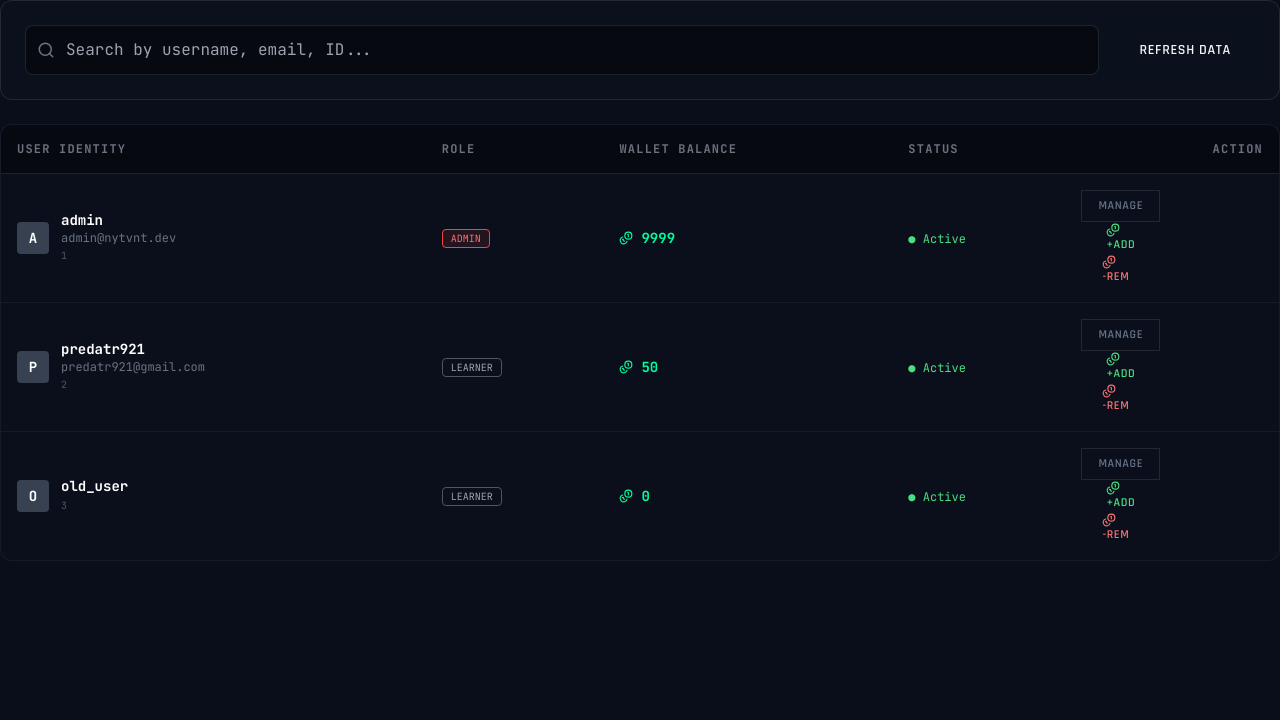
it: Project 10 Feature Verification › Admin Console: User Search › correctly filters users and handles missing data safely
The image size is (1280, 720).
Check: the text "admin@nytvnt.dev" is shown, box [61,230,176,246]
Check: the text "predatr921@gmail.com" is shown, box [61,359,205,375]
Note: Search for specific user
Type "predatr" into the field with placeholder "Search by username, email, ID..." at (562, 50), box [25,25,1099,75]
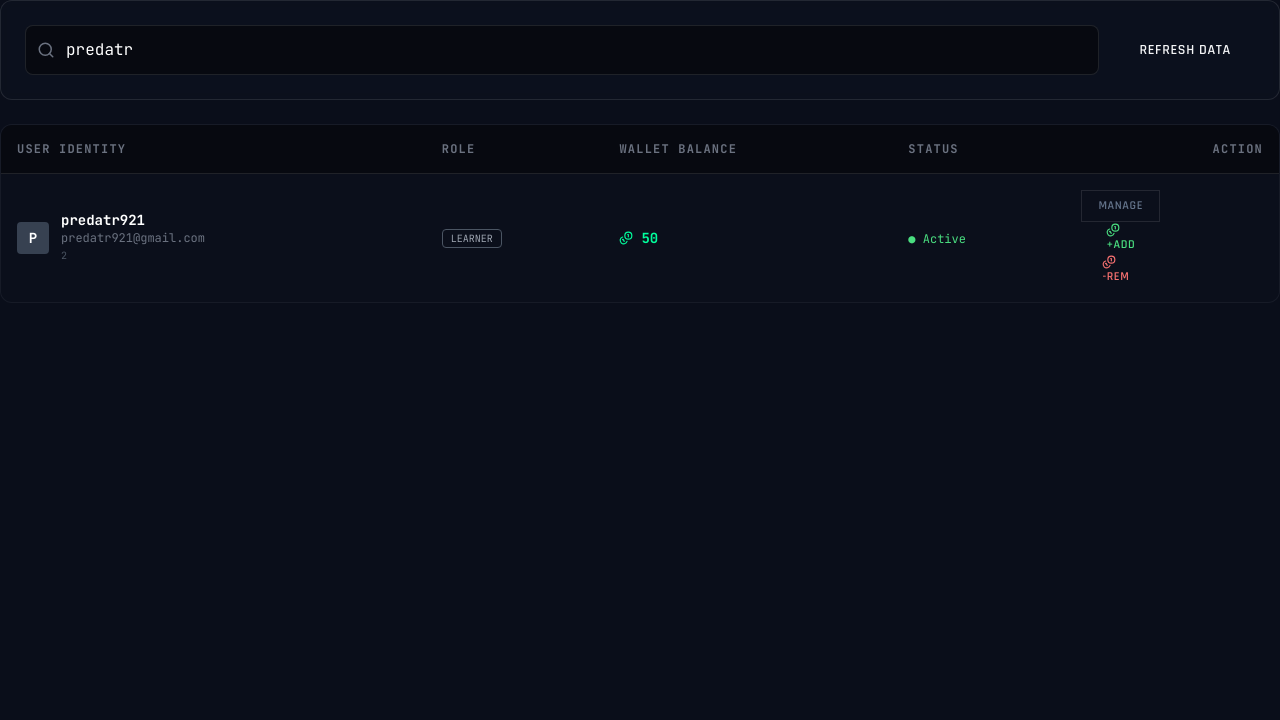
Check: the text "predatr921@gmail.com" is shown, box [61,230,205,246]
Check: the text "admin@nytvnt.dev" is gone
Note: Clear search
Clear the field with placeholder "Search by username, email, ID..." at (562, 50), box [25,25,1099,75]
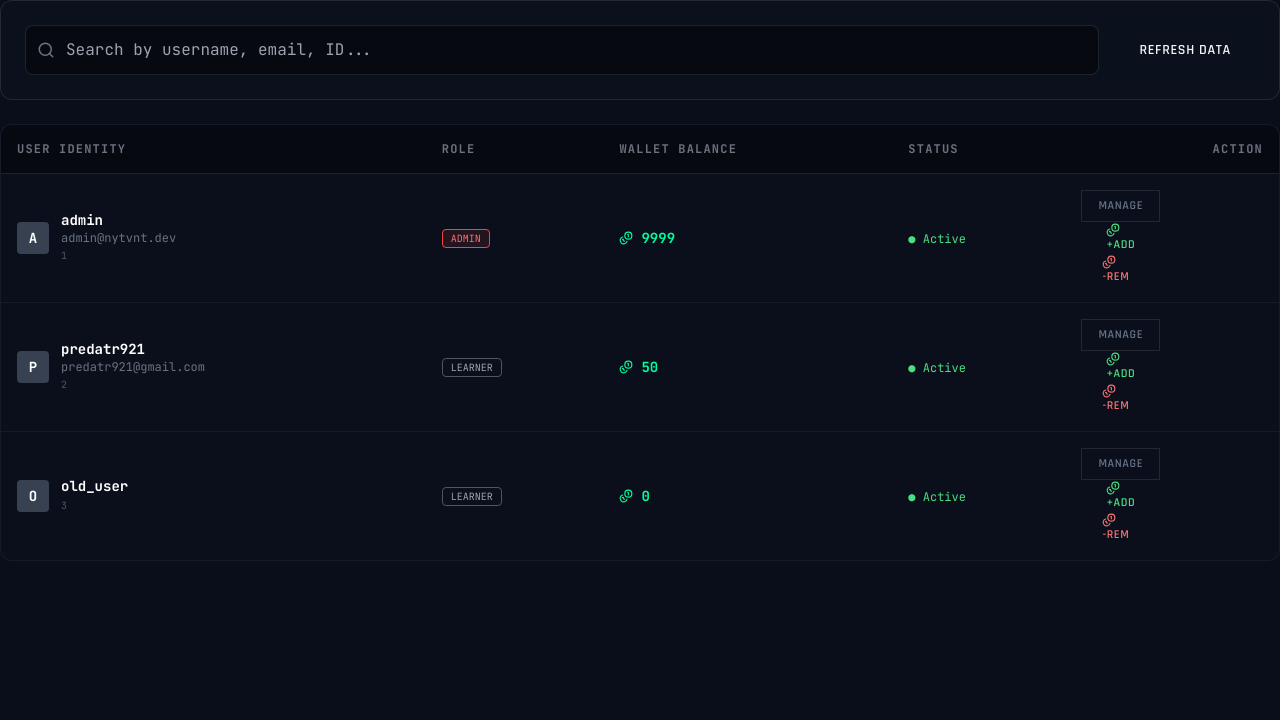
Check: the text "admin@nytvnt.dev" is shown, box [61,230,176,246]
